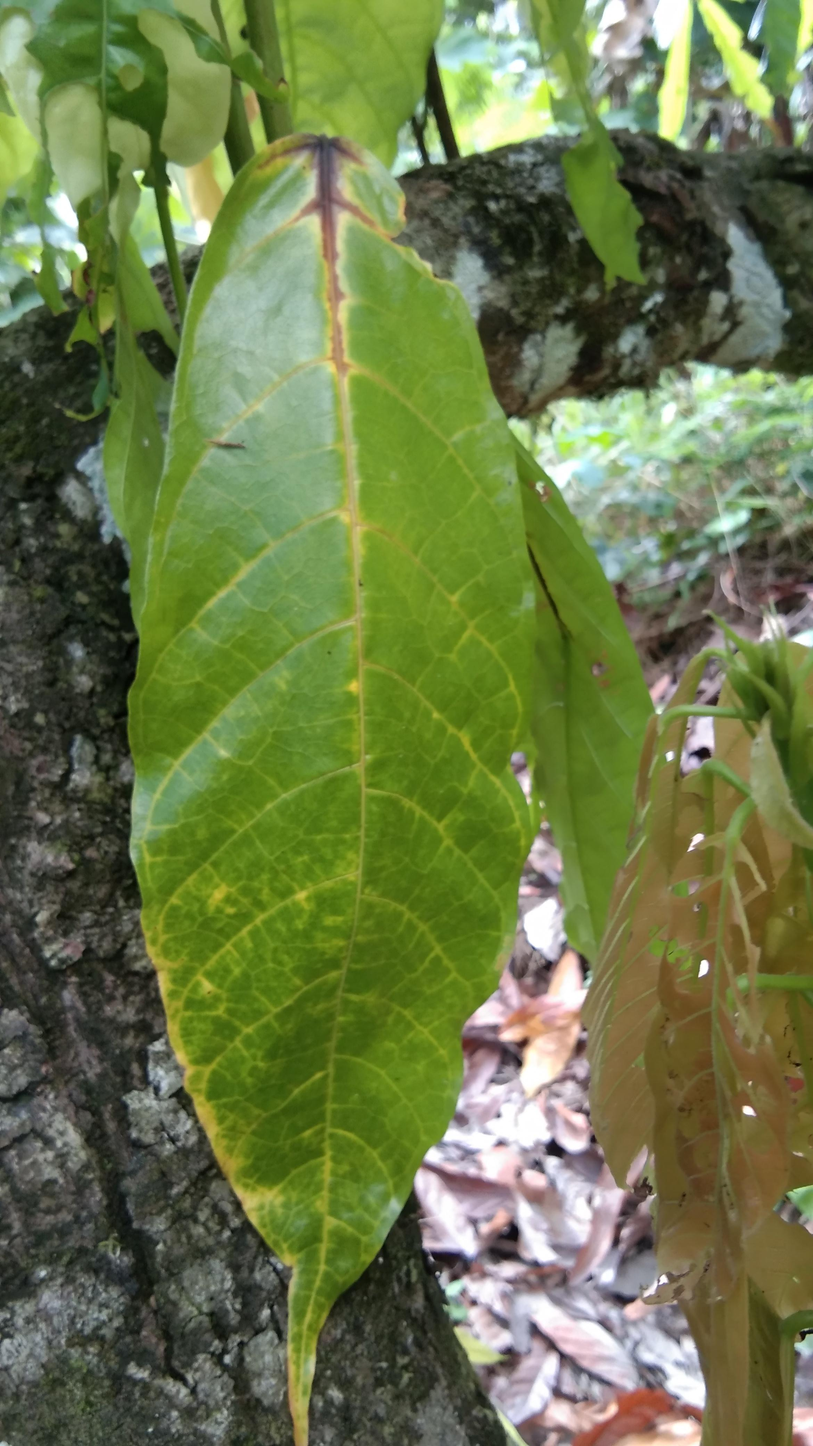deficiencia_potasio: (129, 127, 538, 1430)
